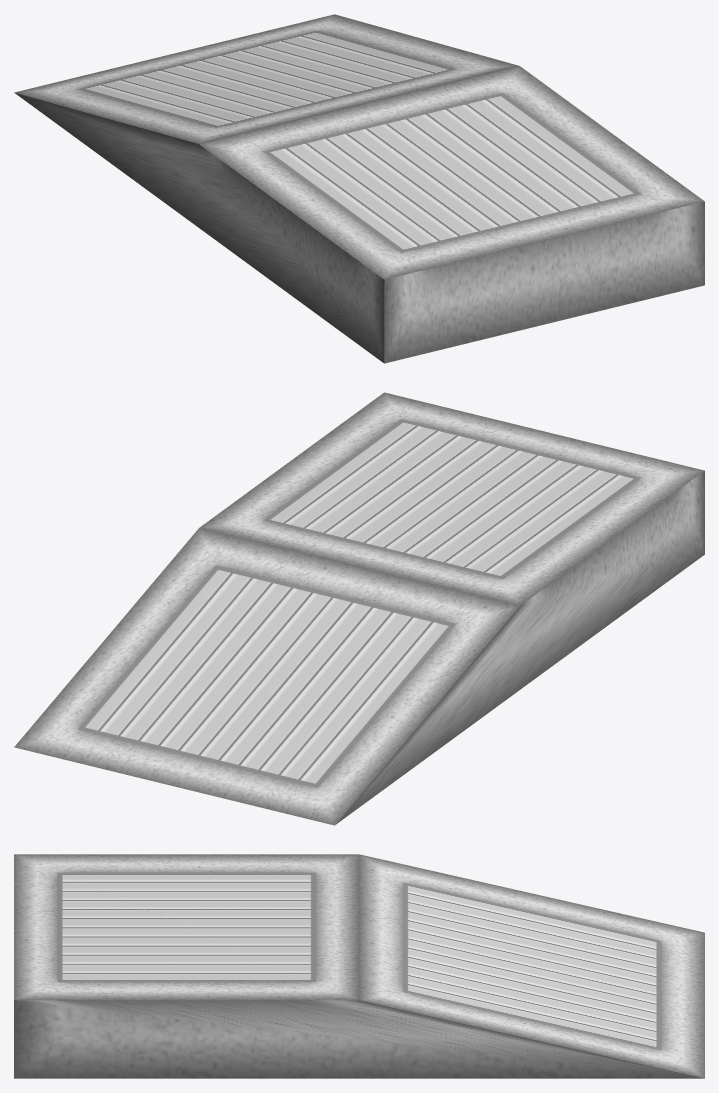
File: block-ramp.fbx
3 views of the same model, one above another, from view 1: azimuth 30°, elevation 25°; view 2: azimuth 150°, elevation 25°; view 3: azimuth 270°, elevation 25° (orthographic). The views are drawn at different scales.
Parts seen in each view (by area): view 1: platform; view 2: platform; view 3: platform.
Boxes of the visible parts, x1,y1,x2,y2 form: platform: (14, 14, 704, 363); platform: (14, 392, 704, 825); platform: (14, 854, 704, 1078).
Bounding box in the file's own units: 200 × 50 × 400.
Materials: 1 (1 with a texture image).
